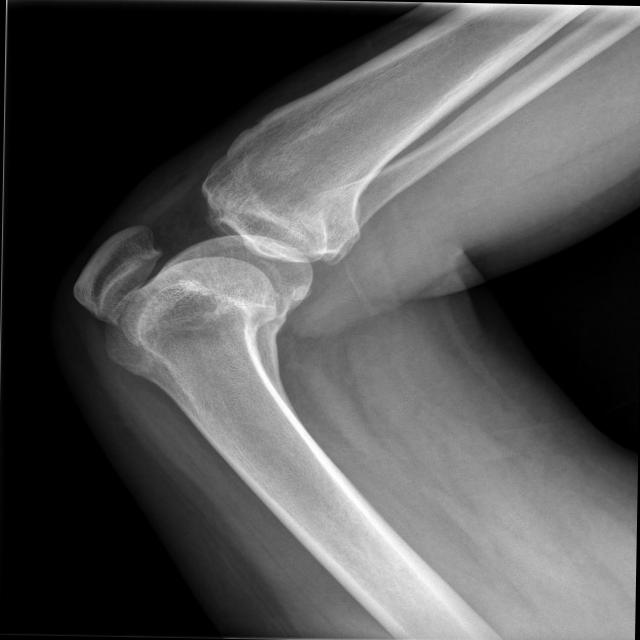Knee: (66, 160, 359, 384)
